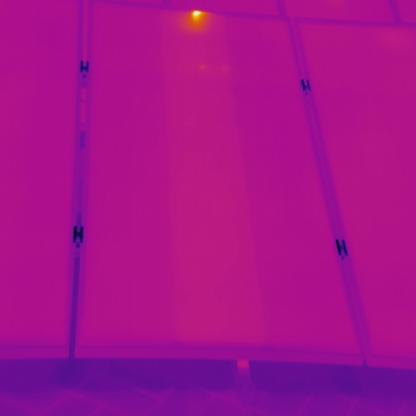hotspot: (188, 6, 206, 22)
